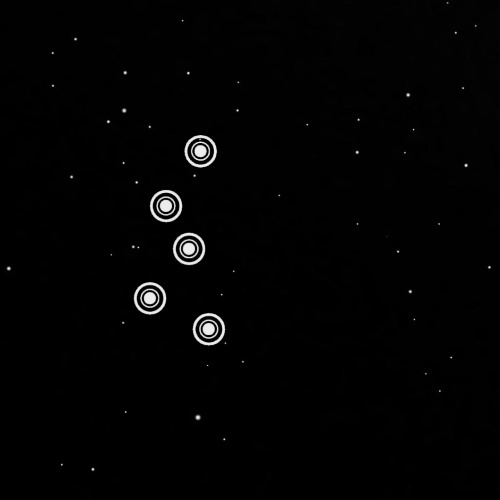cassiopeia: (120, 125, 238, 357)
